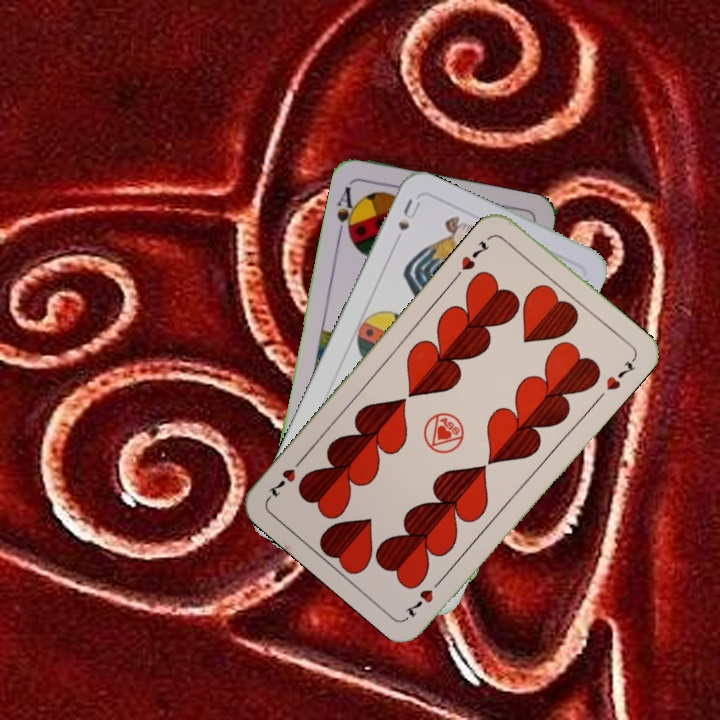H7: (401, 573, 447, 621), (457, 236, 493, 273)
SA: (332, 182, 361, 241)
SU: (393, 195, 423, 234)
